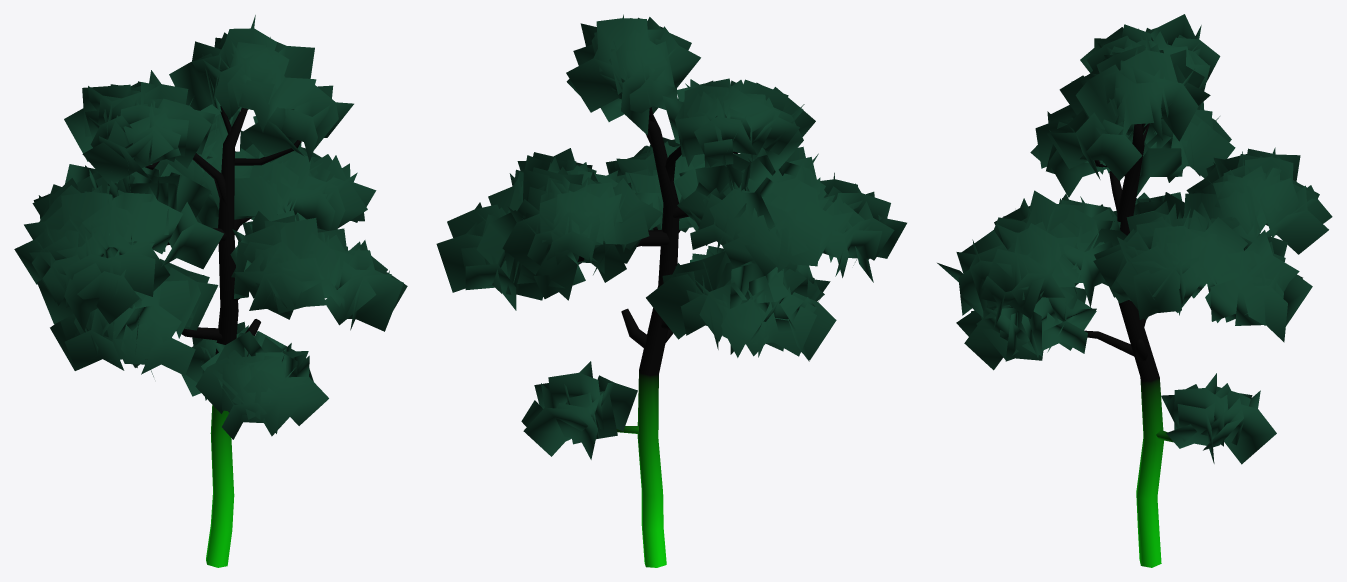
Rendered from SM_ChinaPine01.fbx.
The picture shows the model from 3 angles, left to right: view 1: azimuth 30°, elevation 25°; view 2: azimuth 150°, elevation 25°; view 3: azimuth 270°, elevation 25°; orthographic projection.
Parts seen in each view (by area): view 1: SM_ChinaPina01_LOD0; view 2: SM_ChinaPina01_LOD0; view 3: SM_ChinaPina01_LOD0.
Part boxes in pixels (x1,y1,x2,y2): SM_ChinaPina01_LOD0: (14,15,407,567); SM_ChinaPina01_LOD0: (436,14,906,567); SM_ChinaPina01_LOD0: (937,14,1332,567).
Size of what is drawn, in the model's own units: 1058 by 1525 by 1023.
